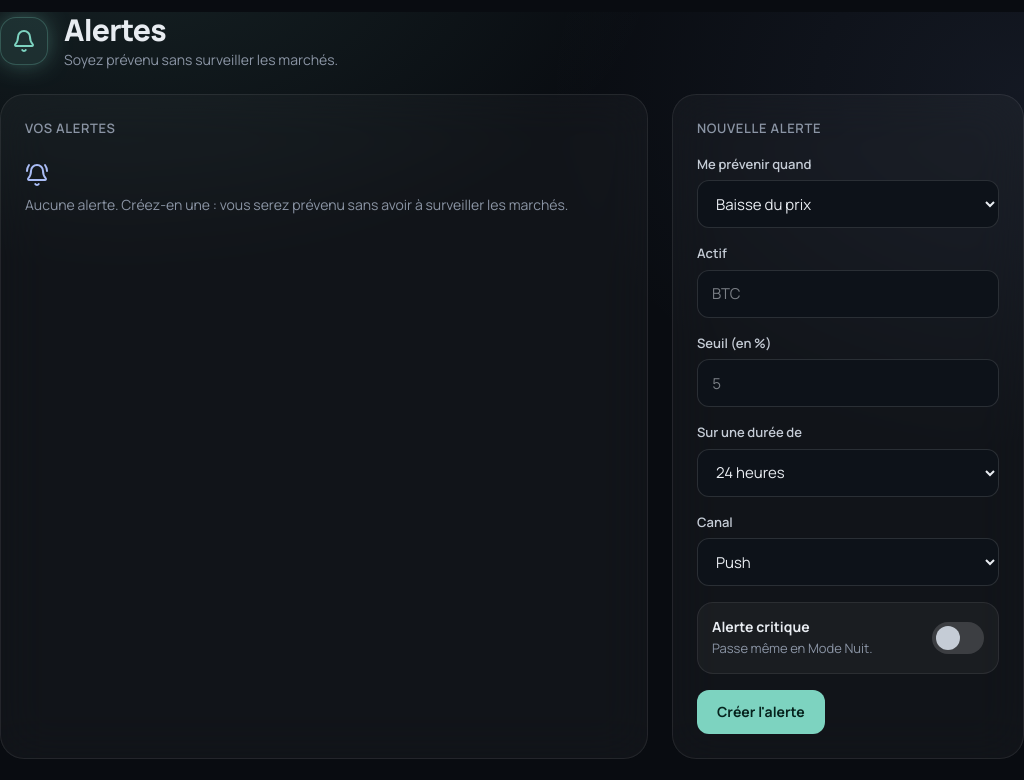
Test case: AlertForm : création › variation : envoie exactement ce que l'API attend et ajoute l'alerte à la liste
Expected: the heading "Vos alertes" is shown, x1=25 y1=119 x2=116 y2=137
Type "eth" into the field labelled "Actif" at (848, 294), box x1=697 y1=270 x2=999 y2=318
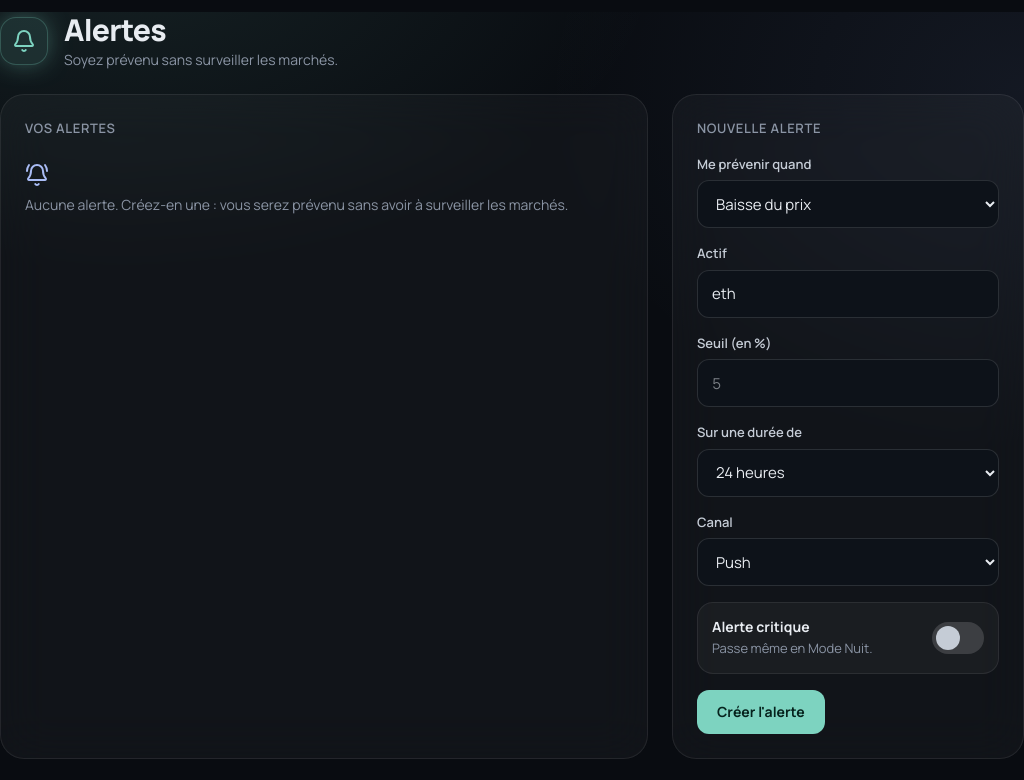
Type "7,5" into the field labelled "Seuil (en %)" at (848, 383), box x1=697 y1=359 x2=999 y2=407
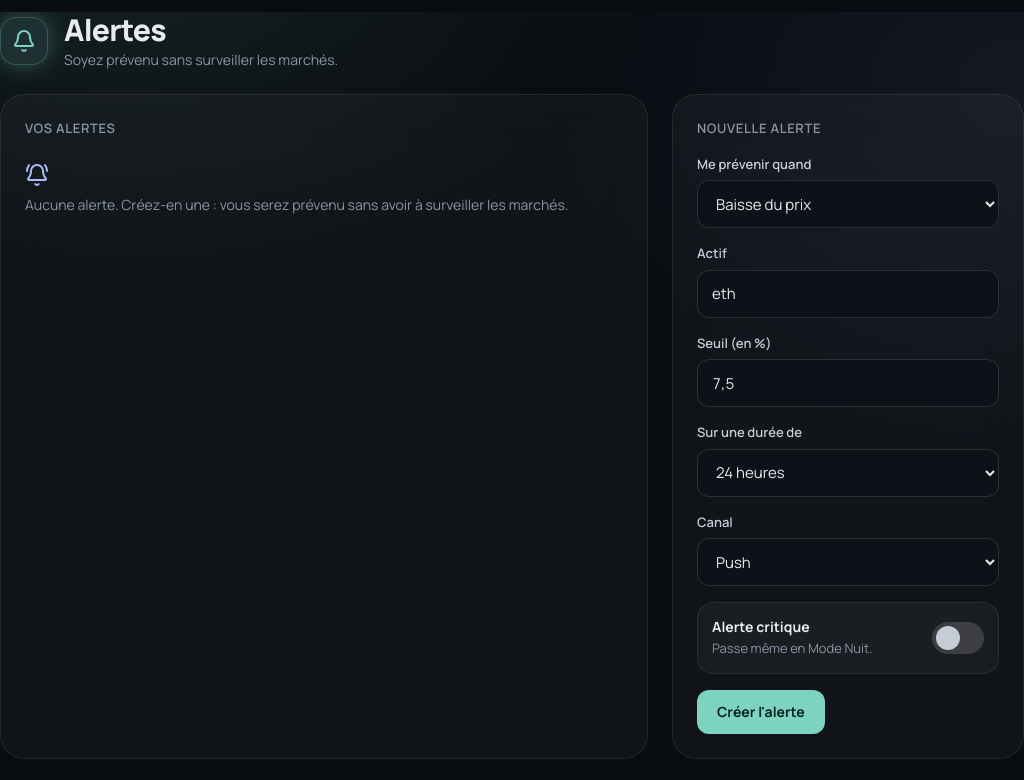
Select "4 heures" in the dropdown labelled "Sur une durée de" at (848, 472), box x1=697 y1=448 x2=999 y2=496
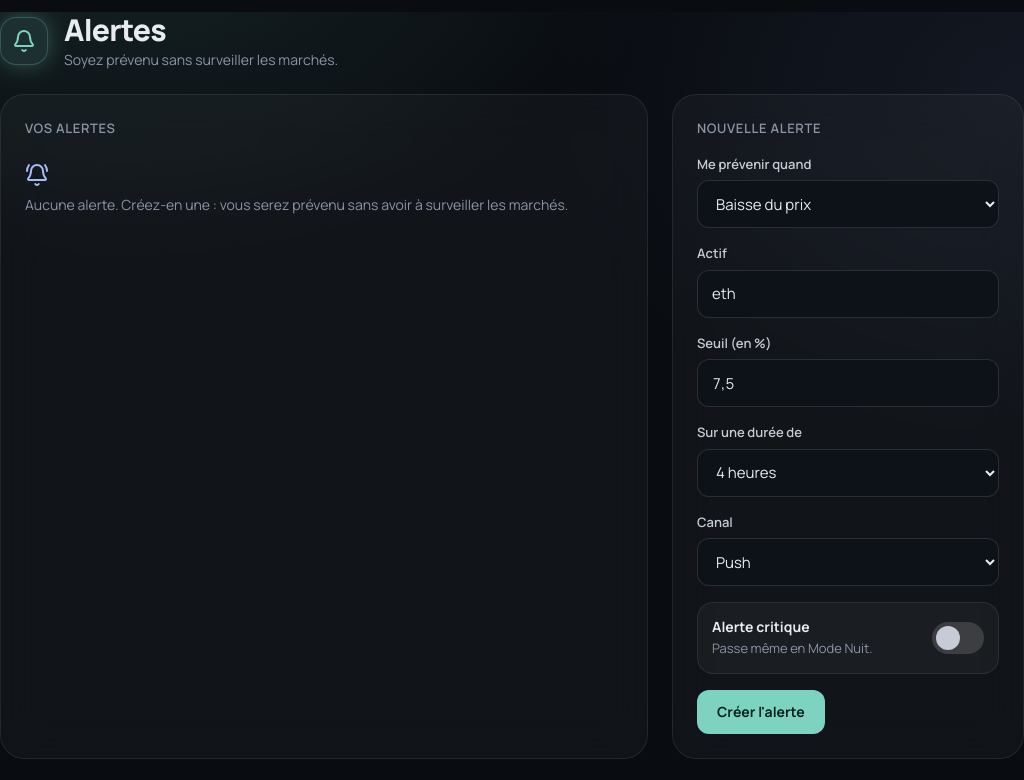
Select "E-mail" in the dropdown labelled "Canal" at (848, 562), box x1=697 y1=538 x2=999 y2=586
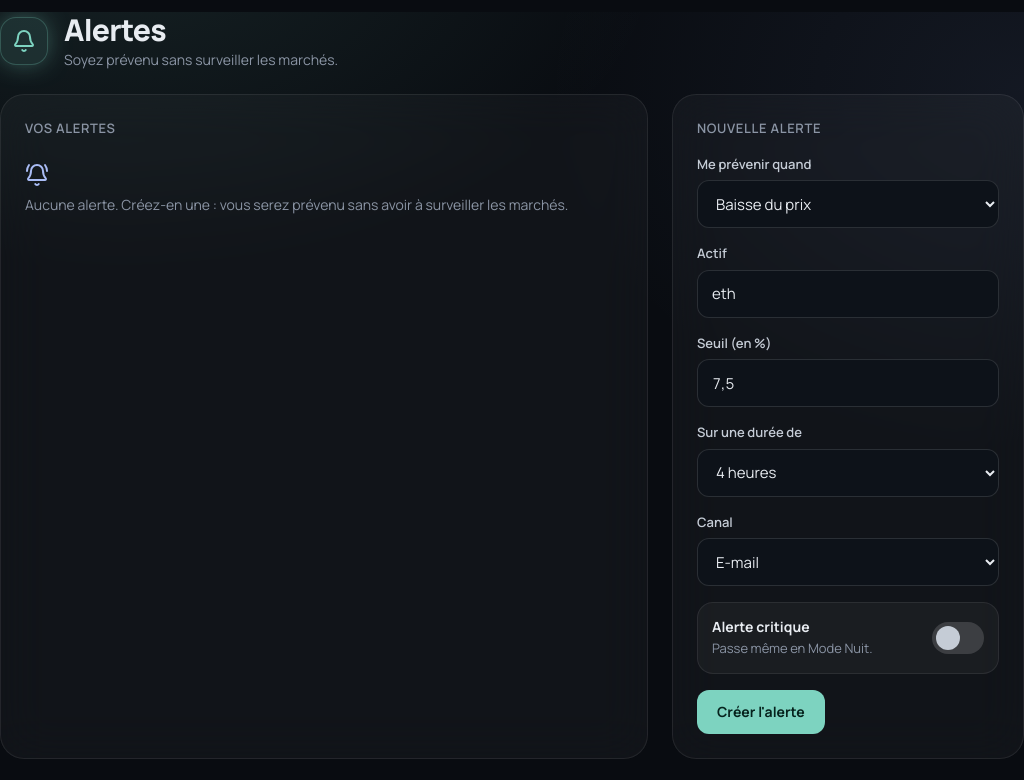
Click the switch named "Alerte critique" at (958, 638), box x1=932 y1=622 x2=984 y2=654
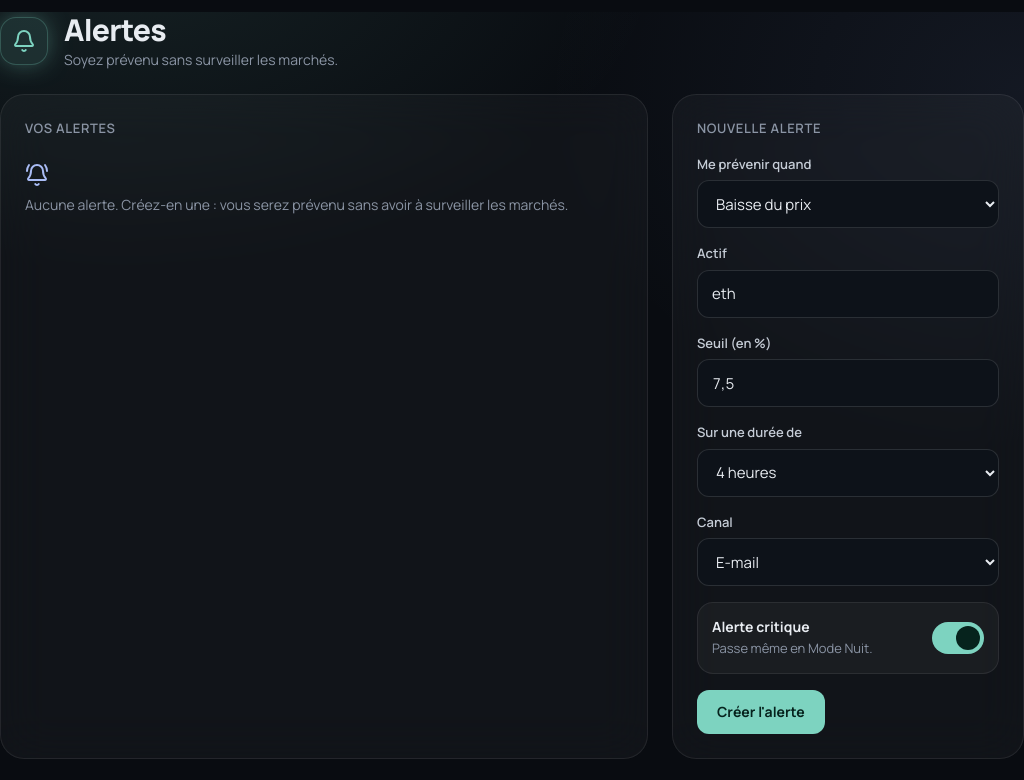
Click the button "Créer l'alerte" at (761, 712), box x1=697 y1=690 x2=825 y2=734
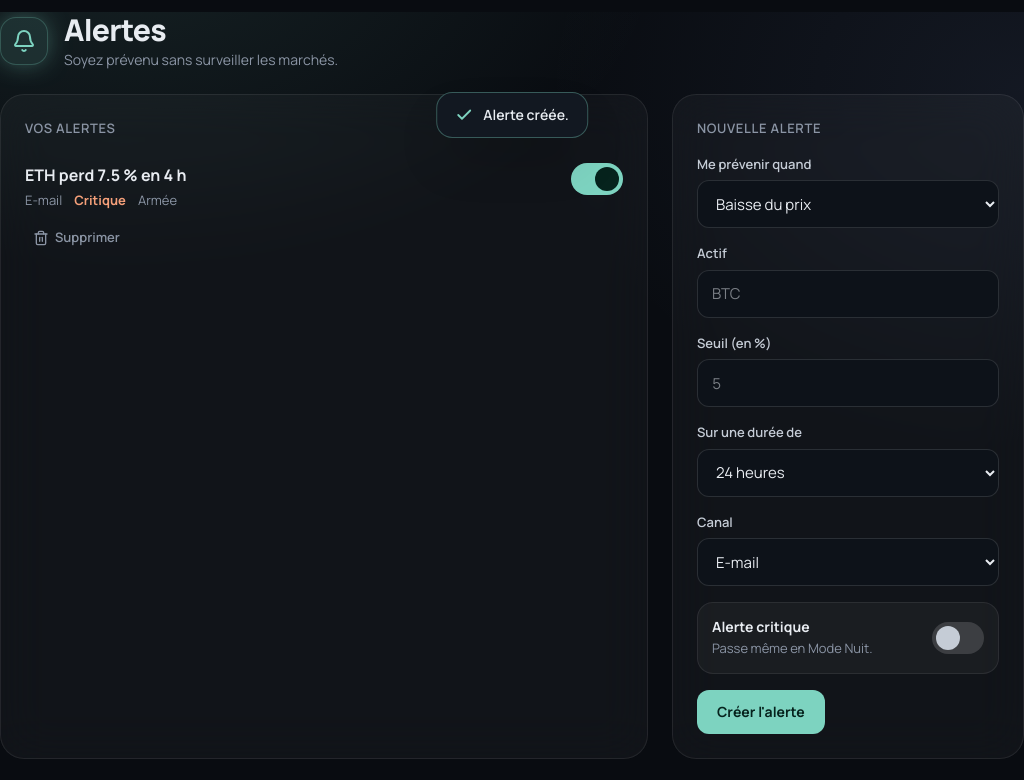
Expected: the text "ETH perd 7.5 % en 4 h" is shown, x1=25 y1=162 x2=186 y2=186
Expected: the text "Alerte créée." is shown, x1=436 y1=92 x2=588 y2=138
